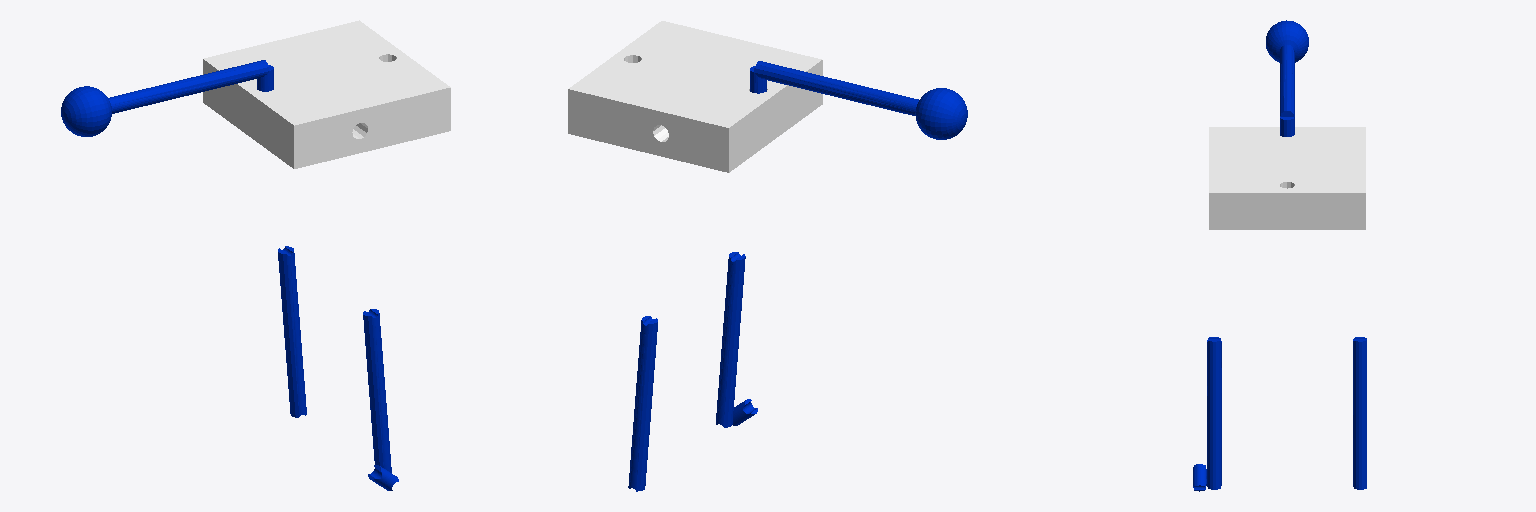
The robot description file, URDF, robot "UtahBody.SLDASM":
<?xml version="1.0" encoding="utf-8"?>
<!-- This URDF was automatically created by SolidWorks to URDF Exporter! Originally created by [author] ([email redacted]) 
     Commit Version: 1.5.0-0-g9aa0fdb  Build Version: 1.5.7004.21443
     For more information, please see http://wiki.ros.org/sw_urdf_exporter -->
<robot
  name="UtahBody.SLDASM">
  <link
    convex="yes"
    name="base_link">
    <inertial>
      <origin
        xyz="0.00122383806382909 -3.17942980033395E-17 0.0659595203814596"
        rpy="0 0 0" />
      <mass
        value="4.9329927506" />
      <inertia
        ixx="5.55262025860006"
        ixy="8.98835590924511E-16"
        ixz="-0.000394714970341267"
        iyy="5.44179501990665"
        iyz="-2.98538962318851E-16"
        izz="10.2631638380994" />
    </inertial>
    <visual>
      <origin
        xyz="0 0 0"
        rpy="0 0 0" />
      <geometry>
        <mesh
          filename="UtahBody.SLDASM/meshes/base_link.STL" />
      </geometry>
      <material
        name="">
        <color
          rgba="1 1 1 1" />
      </material>
    </visual>
    <collision>
      <origin
        xyz="0 0 0"
        rpy="0 0 0" />
      <geometry>
        <mesh
          filename="UtahBody.SLDASM/meshes/base_link.STL" />
      </geometry>
    </collision>
  </link>
  <link
    convex="yes"
    name="Femur_L">
    <inertial>
      <origin
        xyz="0.242203107830059 -0.00284577498225344 0.0924919582228952"
        rpy="0 0 0" />
      <mass
        value="1.0956267569314" />
      <inertia
        ixx="0.000770809917908148"
        ixy="0.000413272308722677"
        ixz="-0.00199415247363703"
        iyy="0.0359395923546767"
        iyz="2.34305677777084E-05"
        izz="0.0354701341892382" />
    </inertial>
    <visual>
      <origin
        xyz="0 0 0"
        rpy="0 0 0" />
      <geometry>
        <mesh
          filename="UtahBody.SLDASM/meshes/Femur_L.STL" />
      </geometry>
      <material
        name="">
        <color
          rgba="0.00784313725490196 0.23921568627451 0.823529411764706 1" />
      </material>
    </visual>
    <collision>
      <origin
        xyz="0 0 0"
        rpy="0 0 0" />
      <geometry>
        <mesh
          filename="UtahBody.SLDASM/meshes/Femur_L.STL" />
      </geometry>
    </collision>
  </link>
  <joint
    name="Hip_femur_L"
    type="continuous">
    <origin
      xyz="-0.0385868696304645 0.18 0.0672852031451373"
      rpy="-1.5707963267949 1.50458688118117 0" />
    <parent
      link="base_link" />
    <child
      link="Femur_L" />
    <axis
      xyz="0 0 1" />
    <limit effort="300" velocity="0.17453292519943295" />
    <safety_controller
      k_velocity="0" />
  </joint>
  <link
    convex="yes"
    name="Tibia_L">
    <inertial>
      <origin
        xyz="0.261668636750511 -0.00305413840682148 -0.023999999127617"
        rpy="0 0 0" />
      <mass
        value="0.837833351696081" />
      <inertia
        ixx="0.000224729291285804"
        ixy="0.000203159080373753"
        ixz="8.62500209497016E-10"
        iyy="0.0175133040900648"
        iyz="1.47446822069347E-11"
        izz="0.0175171715862385" />
    </inertial>
    <visual>
      <origin
        xyz="0 0 0"
        rpy="0 0 0" />
      <geometry>
        <mesh
          filename="UtahBody.SLDASM/meshes/Tibia_L.STL" />
      </geometry>
      <material
        name="">
        <color
          rgba="0.00784313725490196 0.23921568627451 0.823529411764706 1" />
      </material>
    </visual>
    <collision>
      <origin
        xyz="0 0 0"
        rpy="0 0 0" />
      <geometry>
        <mesh
          filename="UtahBody.SLDASM/meshes/Tibia_L.STL" />
      </geometry>
    </collision>
  </link>
  <joint
    name="Femur_tibia_L"
    type="continuous">
    <origin
      xyz="0.557961346760059 -0.00655865516646524 0.0770000001743604"
      rpy="0 0 -0.00193315362723463" />
    <parent
      link="Femur_L" />
    <child
      link="Tibia_L" />
    <axis
      xyz="0 0 -1" />
    <limit effort="300" velocity="0.17453292519943295" />
    <safety_controller
      k_velocity="0" />
  </joint>
  <link
    convex="yes"
    name="Tarsa_L">
    <inertial>
      <origin
        xyz="0.0302857093798252 -0.00810522006820646 0.070000040207787"
        rpy="0 0 0" />
      <mass
        value="0.1015318884241" />
      <inertia
        ixx="2.83277886698444E-05"
        ixy="2.1601549548652E-07"
        ixz="6.83242656182688E-12"
        iyy="4.67036221075615E-05"
        iyz="6.0767724694821E-12"
        izz="4.96436344707768E-05" />
    </inertial>
    <visual>
      <origin
        xyz="0 0 0"
        rpy="0 0 0" />
      <geometry>
        <mesh
          filename="UtahBody.SLDASM/meshes/Tarsa_L.STL" />
      </geometry>
      <material
        name="">
        <color
          rgba="0.00784313725490196 0.23921568627451 0.823529411764706 1" />
      </material>
    </visual>
    <collision>
      <origin
        xyz="0 0 0"
        rpy="0 0 0" />
      <geometry>
        <mesh
          filename="UtahBody.SLDASM/meshes/Tarsa_L.STL" />
      </geometry>
    </collision>
  </link>
  <joint
    name="Tibia_tarsa_L"
    type="continuous">
    <origin
      xyz="0.507031720085334 -0.00595264631811062 -0.0469999948873179"
      rpy="0 0 2.35013161415813" />
    <parent
      link="Tibia_L" />
    <child
      link="Tarsa_L" />
    <axis
      xyz="0 0 -1" />
    <limit effort="300" velocity="0.17453292519943295" />
    <safety_controller
      k_velocity="0" />
  </joint>
  <link
    convex="yes"
    name="Foot_L">
    <inertial>
      <origin
        xyz="-0.134046955227231 -0.0400232687764869 -0.149551845220791"
        rpy="0 0 0" />
      <mass
        value="2.834771497095713" />
      <inertia
        ixx="0.00329402342120859"
        ixy="-0.00225499866549155"
        ixz="4.00642092161077E-10"
        iyy="0.0132217193918293"
        iyz="2.89352007714829E-10"
        izz="0.0109505994990665" />
    </inertial>
    <visual>
      <origin
        xyz="0 0 0"
        rpy="0 0 0" />
      <geometry>
        <mesh
          filename="UtahBody.SLDASM/meshes/Foot_L.STL" />
      </geometry>
      <material
        name="">
        <color
          rgba="0.00784313725490196 0.23921568627451 0.823529411764706 1" />
      </material>
    </visual>
    <collision>
      <origin
        xyz="0 0 0"
        rpy="0 0 0" />
      <geometry>
        <mesh
          filename="UtahBody.SLDASM/meshes/Foot_L.STL" />
      </geometry>
    </collision>
  </link>
  <joint
    name="Tarsa_foot_L"
    type="continuous">
    <origin
      xyz="0.0545835119848165 -0.00841169146295107 0.0929999850227678"
      rpy="0 0 -0.0126879406929578" />
    <parent
      link="Tarsa_L" />
    <child
      link="Foot_L" />
    <axis
      xyz="0 0 0.999999999999996" />
    <limit effort="300" velocity="0.17453292519943295" />
    <safety_controller
      k_velocity="0" />
  </joint>
  <link
    convex="yes"
    name="Femur_R">
    <inertial>
      <origin
        xyz="0.242203107594868 -0.00284577821776226 -0.0924919582317857"
        rpy="0 0 0" />
      <mass
        value="1.09562675424786" />
      <inertia
        ixx="0.000770809907869585"
        ixy="0.000413271827180529"
        ixz="0.00199415248143469"
        iyy="0.0359395923291157"
        iyz="-2.34302735430893E-05"
        izz="0.0354701341468065" />
    </inertial>
    <visual>
      <origin
        xyz="0 0 0"
        rpy="0 0 0" />
      <geometry>
        <mesh
          filename="UtahBody.SLDASM/meshes/Femur_R.STL" />
      </geometry>
      <material
        name="">
        <color
          rgba="0.00784313725490196 0.23921568627451 0.823529411764706 1" />
      </material>
    </visual>
    <collision>
      <origin
        xyz="0 0 0"
        rpy="0 0 0" />
      <geometry>
        <mesh
          filename="UtahBody.SLDASM/meshes/Femur_R.STL" />
      </geometry>
    </collision>
  </link>
  <joint
    name="Hips_femur_R"
    type="continuous">
    <origin
      xyz="-0.0385868696304645 -0.18 0.0672852031451373"
      rpy="-1.5707963267949 1.50458688118117 0" />
    <parent
      link="base_link" />
    <child
      link="Femur_R" />
    <axis
      xyz="0 0 1" />
    <limit effort="300" velocity="0.17453292519943295" />
    <safety_controller
      k_velocity="0" />
  </joint>
  <link
    convex="yes"
    name="Tibia_R">
    <inertial>
      <origin
        xyz="0.261668641621138 -0.00305415187488046 0.0239999993678786"
        rpy="0 0 0" />
      <mass
        value="0.837833381982962" />
      <inertia
        ixx="0.000224729299568724"
        ixy="0.000203161324382621"
        ixz="-9.62315070088139E-10"
        iyy="0.0175133046826421"
        iyz="6.79629889809555E-11"
        izz="0.0175171721226335" />
    </inertial>
    <visual>
      <origin
        xyz="0 0 0"
        rpy="0 0 0" />
      <geometry>
        <mesh
          filename="UtahBody.SLDASM/meshes/Tibia_R.STL" />
      </geometry>
      <material
        name="">
        <color
          rgba="0.00784313725490196 0.23921568627451 0.823529411764706 1" />
      </material>
    </visual>
    <collision>
      <origin
        xyz="0 0 0"
        rpy="0 0 0" />
      <geometry>
        <mesh
          filename="UtahBody.SLDASM/meshes/Tibia_R.STL" />
      </geometry>
    </collision>
  </link>
  <joint
    name="Femur_tibia_R"
    type="continuous">
    <origin
      xyz="0.557961346760059 -0.00655865516646524 -0.0770000001743603"
      rpy="0 0 -0.00193315362723463" />
    <parent
      link="Femur_R" />
    <child
      link="Tibia_R" />
    <axis
      xyz="0 0 1" />
    <limit effort="300" velocity="0.17453292519943295" />
    <safety_controller
      k_velocity="0" />
  </joint>
  <link
    convex="yes"
    name="Tarsa_R">
    <inertial>
      <origin
        xyz="0.0302857093798253 -0.00810522006820635 -0.0700000402077869"
        rpy="0 0 0" />
      <mass
        value="0.1015318884241" />
      <inertia
        ixx="2.83277886698443E-05"
        ixy="2.16015495486542E-07"
        ixz="-6.8324266014177E-12"
        iyy="4.67036221075615E-05"
        iyz="-6.07677249578629E-12"
        izz="4.96436344707768E-05" />
    </inertial>
    <visual>
      <origin
        xyz="0 0 0"
        rpy="0 0 0" />
      <geometry>
        <mesh
          filename="UtahBody.SLDASM/meshes/Tarsa_R.STL" />
      </geometry>
      <material
        name="">
        <color
          rgba="0.00784313725490196 0.23921568627451 0.823529411764706 1" />
      </material>
    </visual>
    <collision>
      <origin
        xyz="0 0 0"
        rpy="0 0 0" />
      <geometry>
        <mesh
          filename="UtahBody.SLDASM/meshes/Tarsa_R.STL" />
      </geometry>
    </collision>
  </link>
  <joint
    name="Tibia_tarsa_R"
    type="continuous">
    <origin
      xyz="0.507031720085334 -0.00595264631811062 0.0469999948873179"
      rpy="0 0 2.35013161415813" />
    <parent
      link="Tibia_R" />
    <child
      link="Tarsa_R" />
    <axis
      xyz="0 0 1" />
    <limit effort="300" velocity="0.17453292519943295" />
    <safety_controller
      k_velocity="0" />
  </joint>
  <link
    convex="yes"
    name="Foot_R">
    <inertial>
      <origin
        xyz="-0.134046955227231 -0.0400232687764868 0.149551845220791"
        rpy="0 0 0" />
      <mass
        value="2.834771497095712" />
      <inertia
        ixx="0.00329402342120859"
        ixy="-0.00225499866549155"
        ixz="-4.00642091881399E-10"
        iyy="0.0132217193918293"
        iyz="-2.89352008316691E-10"
        izz="0.0109505994990664" />
    </inertial>
    <visual>
      <origin
        xyz="0 0 0"
        rpy="0 0 0" />
      <geometry>
        <mesh
          filename="UtahBody.SLDASM/meshes/Foot_R.STL" />
      </geometry>
      <material
        name="">
        <color
          rgba="0.00784313725490196 0.23921568627451 0.823529411764706 1" />
      </material>
    </visual>
    <collision>
      <origin
        xyz="0 0 0"
        rpy="0 0 0" />
      <geometry>
        <mesh
          filename="UtahBody.SLDASM/meshes/Foot_R.STL" />
      </geometry>
    </collision>
  </link>
  <joint
    name="Tarsa_foot_R"
    type="continuous">
    <origin
      xyz="0.0545835119848167 -0.00841169146295095 -0.0929999850227678"
      rpy="0 0 -0.0126879406929579" />
    <parent
      link="Tarsa_R" />
    <child
      link="Foot_R" />
    <axis
      xyz="0 0 -0.999999999999996" />
    <limit effort="300" velocity="0.17453292519943295" />
    <safety_controller
      k_velocity="0" />
  </joint>
  <link
    name="Tail">
    <inertial>
      <origin
        xyz="0.421457332725084 -9.67276904467562E-10 -0.0568211726179445"
        rpy="0 0 0" />
      <mass
        value="2.43669066002775" />
      <inertia
        ixx="0.00361500190357776"
        ixy="-7.00435857004311E-10"
        ixz="0.00346870361655754"
        iyy="0.102575187379763"
        iyz="1.22087694850174E-10"
        izz="0.102066233974879" />
    </inertial>
    <visual>
      <origin
        xyz="0 0 0"
        rpy="0 0 0" />
      <geometry>
        <mesh
          filename="BodyWithTail/meshes/Tail.STL" />
      </geometry>
      <material
        name="">
        <color
          rgba="0.00784313725490196 0.23921568627451 0.823529411764706 1" />
      </material>
    </visual>
    <collision>
      <origin
        xyz="0 0 0"
        rpy="0 0 0" />
      <geometry>
        <mesh
          filename="BodyWithTail/meshes/Tail.STL" />
      </geometry>
    </collision>
  </link>
  <joint
    name="Hips_Tail"
    type="continuous">
    <origin
      xyz="-0.193717960242815 0 0.132"
      rpy="3.14159265358979 0 3.14159265358979" />
    <parent
      link="base_link" />
    <child
      link="Tail" />
    <axis
      xyz="0 0 1" />
    <limit effort="300" velocity="0.17453292519943295" />
    <safety_controller
      k_velocity="0" />
  </joint>
</robot>

--- Facts derived from the render (not from the file) ---
3 views of the same robot in one strip: view 1: azimuth 30°, elevation 25°; view 2: azimuth 150°, elevation 25°; view 3: azimuth 270°, elevation 25° (orthographic).
Robot: UtahBody.SLDASM — 10 links, 9 joints (9 continuous); root link base_link; default pose: every joint at zero.
Links seen in each view (by area): view 1: base_link, Tail, Tibia_L, Tibia_R; view 2: base_link, Tail, Tibia_R, Tibia_L; view 3: base_link, Tail, Tibia_R, Tibia_L.
Link boxes in pixels (x1,y1,x2,y2): base_link: (203,20,450,168); Tail: (61,60,273,136); Tibia_L: (278,246,306,417); Tibia_R: (363,309,391,472); base_link: (568,21,822,172); Tail: (750,61,967,139); Tibia_R: (716,252,745,427); Tibia_L: (628,316,657,491); base_link: (1209,127,1365,229); Tail: (1266,20,1308,136); Tibia_R: (1207,337,1221,489); Tibia_L: (1353,337,1366,489).
Size in the robot's own frame: 1.08 by 0.559 by 1.28 metres.
Meshes: 10 distinct files referenced, 5 mesh visuals loaded (5 binary STL); not drawn: 5 (reference not matched to a file when rendering).